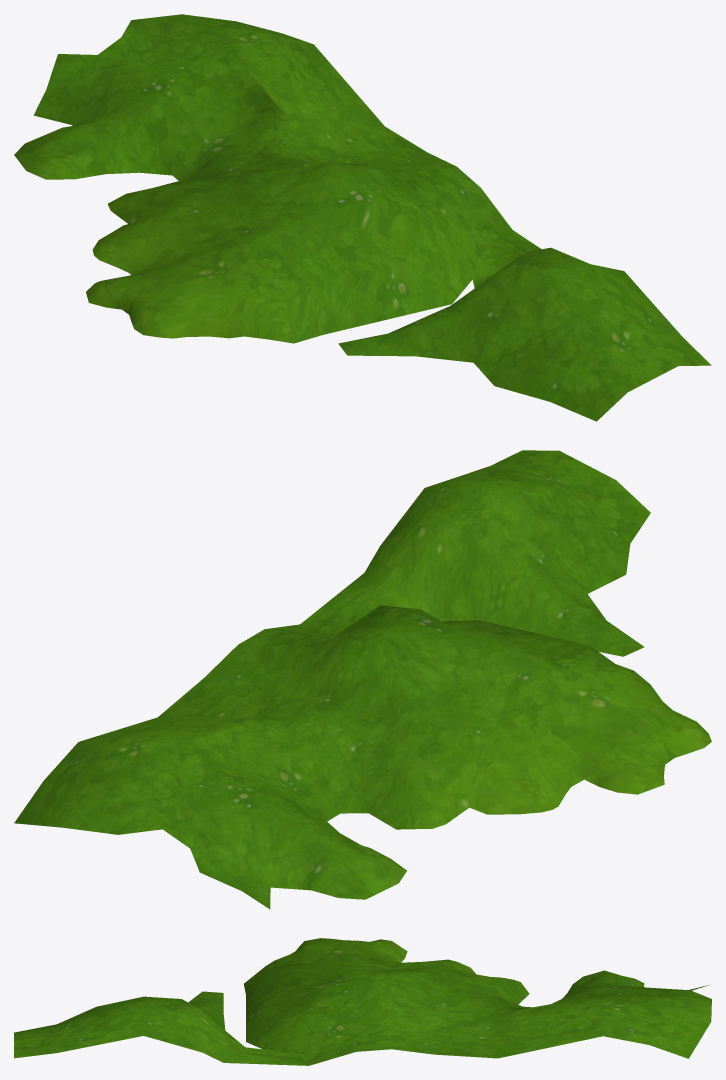
Rendered from Amazon02_Terrain04.FBX.
3 views of the same model, one above another, from view 1: azimuth 30°, elevation 25°; view 2: azimuth 150°, elevation 25°; view 3: azimuth 270°, elevation 25° (orthographic). The views are drawn at different scales.
Visible parts, largest first — view 1: Amazon02_Terrain04; view 2: Amazon02_Terrain04; view 3: Amazon02_Terrain04.
Part boxes in pixels (left/top/right/bottom): Amazon02_Terrain04: left=14, top=14, right=711, bottom=421; Amazon02_Terrain04: left=14, top=450, right=711, bottom=909; Amazon02_Terrain04: left=14, top=938, right=711, bottom=1065.
Bounding box in the file's own units: 8739 × 1717 × 19017.
